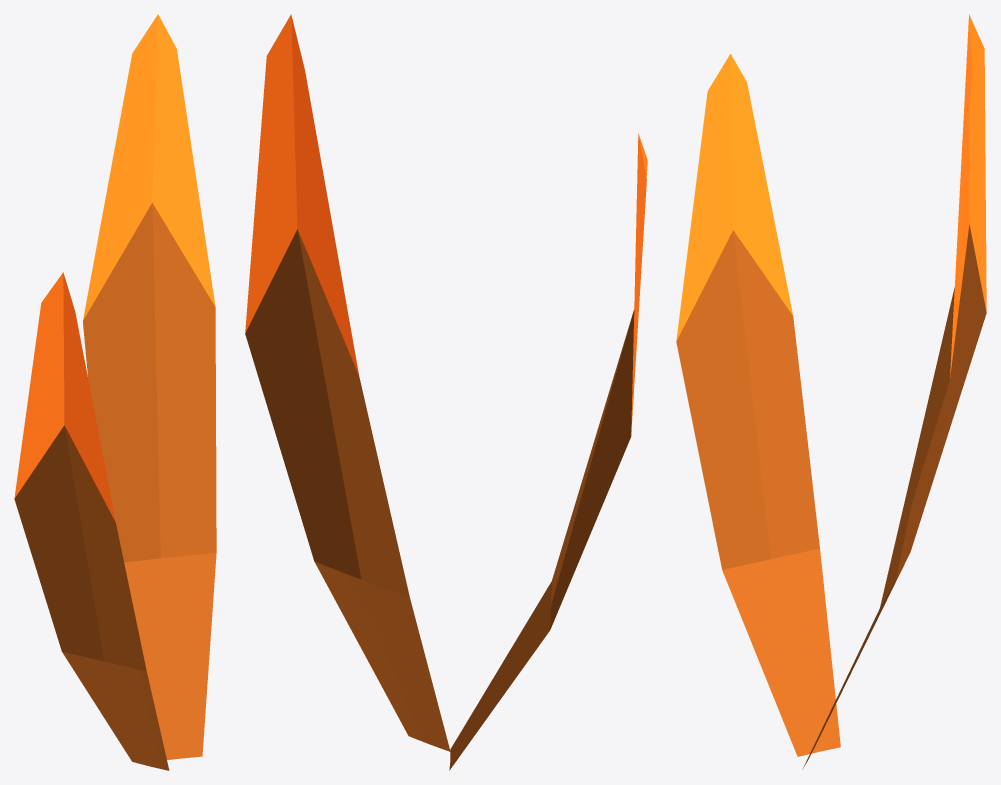
The model's file is scifi_scifi-plant-grass-small.fbx.
3 views of the same model, side by side, from view 1: azimuth 30°, elevation 25°; view 2: azimuth 150°, elevation 25°; view 3: azimuth 270°, elevation 25° (orthographic). The views are drawn at different scales.
Parts seen in each view (by area): view 1: scifi_scifi_plant_grass_small; view 2: scifi_scifi_plant_grass_small; view 3: scifi_scifi_plant_grass_small.
Part boxes in pixels (box(x1,y1,x2,y2)): scifi_scifi_plant_grass_small: box(14, 14, 216, 770); scifi_scifi_plant_grass_small: box(245, 14, 647, 770); scifi_scifi_plant_grass_small: box(676, 14, 986, 769).
Size of the model in its own units: 82.28 by 200 by 72.12.
